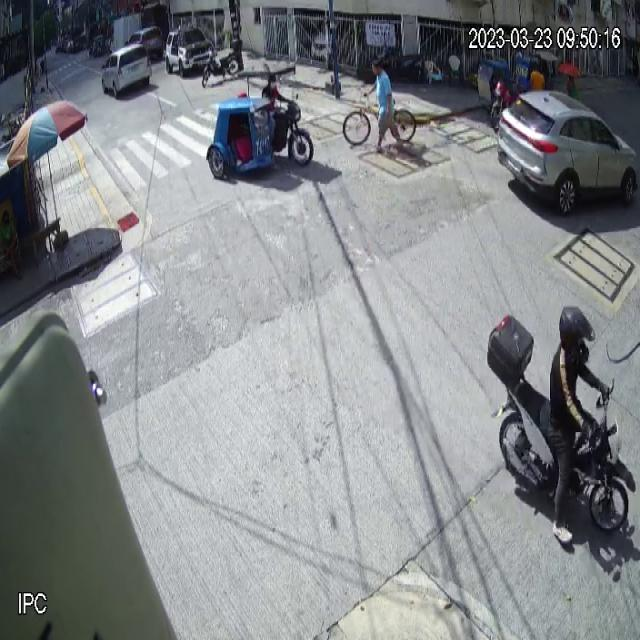Car: (496, 89, 640, 216)
Motorcycle: (484, 309, 640, 535)
Tricycle: (204, 58, 317, 184)
